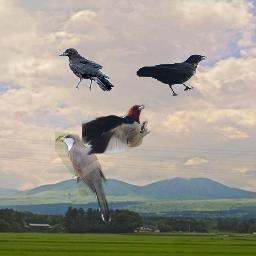Crow: (136, 54, 208, 96), (59, 48, 114, 91)
Cuckoo: (55, 132, 113, 224)
Woodpecker: (82, 102, 151, 155)
